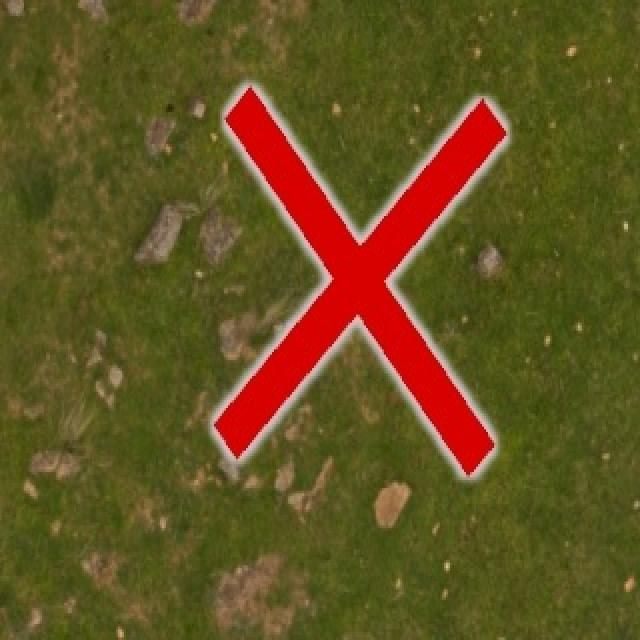x_marker: (213, 87, 505, 473)
